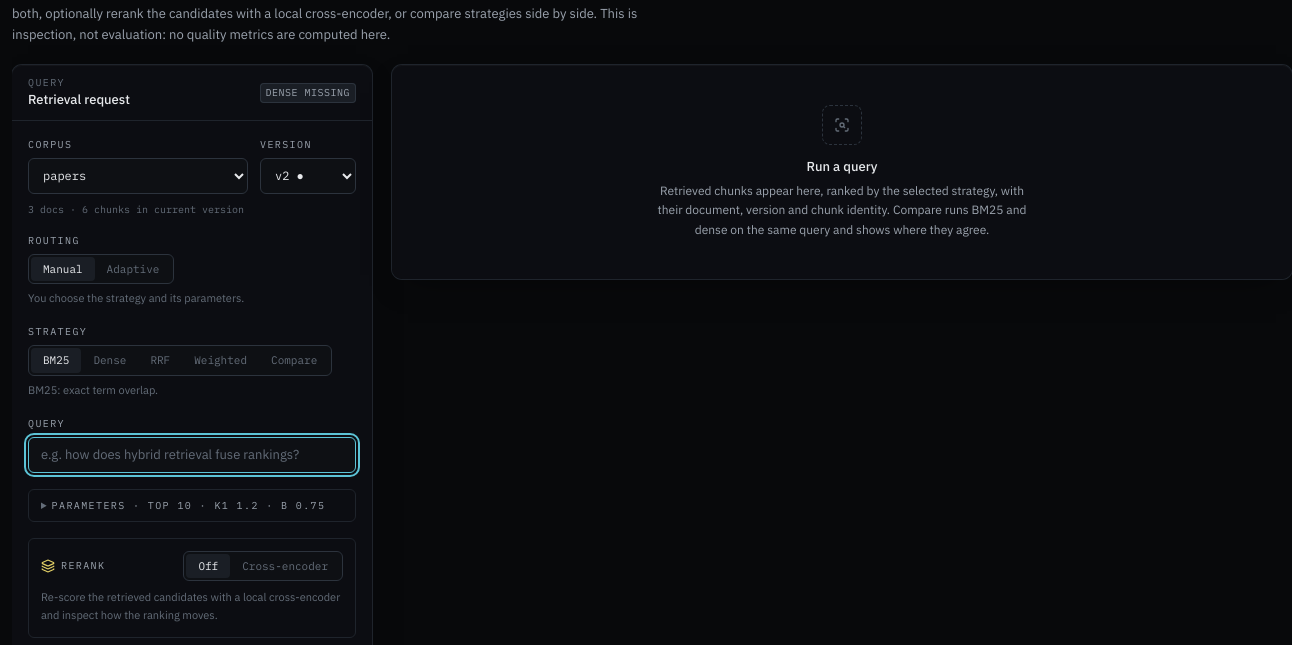
RetrievalPage › sends a typed request and renders evidence with provenance
Step 1. Type "dense vectors" into the field labelled "Query" → (192, 455), box [28,437,356,473]
Then press Enter
(page scrolled)
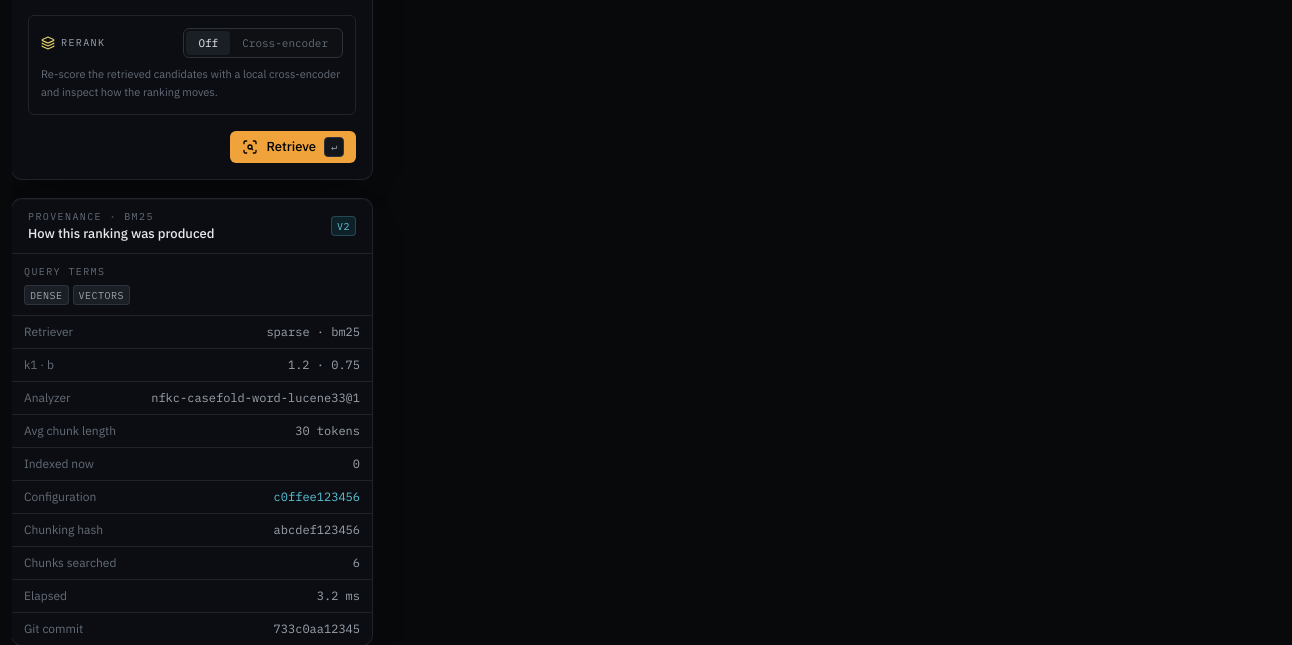
Check: the text "c0ffee123456" is shown, box [274,489,360,504]
